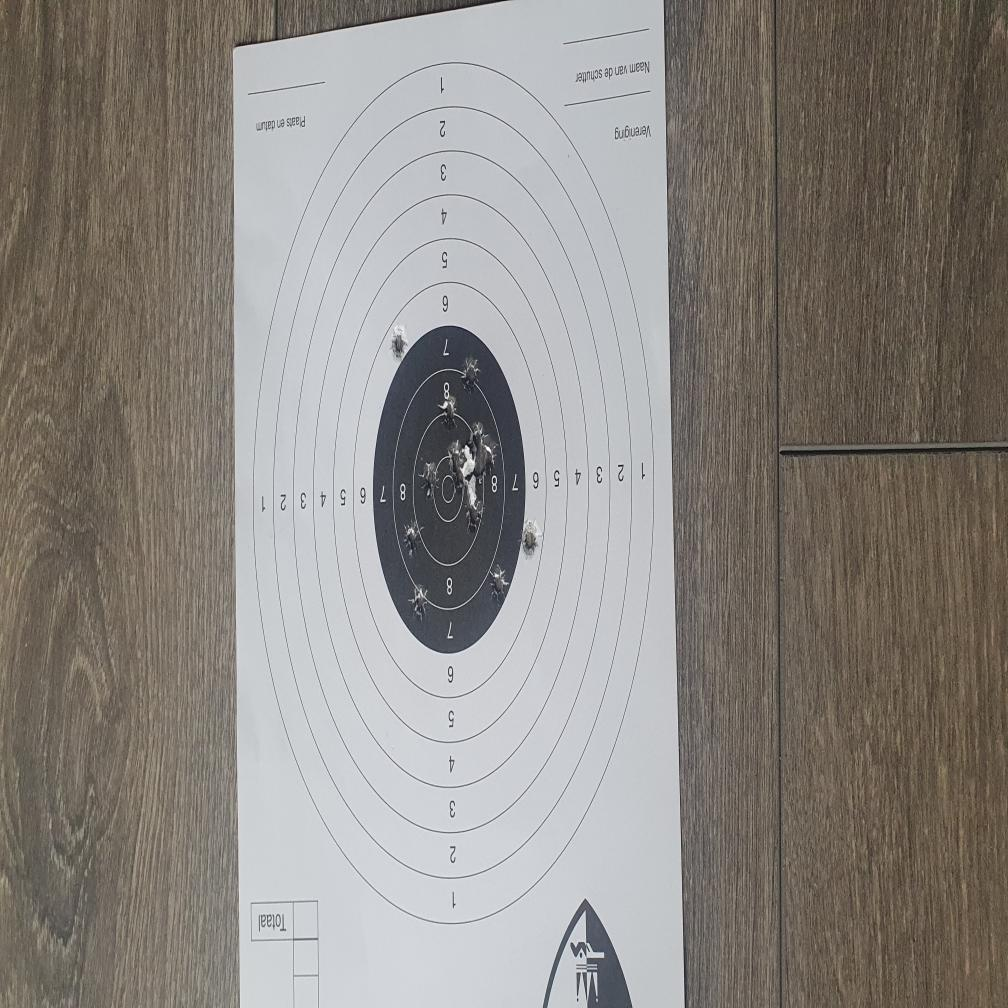10: (418, 459, 440, 500), (465, 494, 483, 532), (448, 440, 463, 478), (452, 463, 467, 498)
7: (518, 519, 542, 563), (488, 564, 510, 608), (387, 319, 409, 361)
8: (460, 352, 480, 396), (408, 582, 428, 624), (483, 440, 498, 477)
9: (436, 392, 458, 434), (402, 518, 424, 557), (469, 422, 484, 452), (470, 449, 483, 482)
Target: (251, 56, 655, 927)
black_contour: (373, 321, 525, 655)
